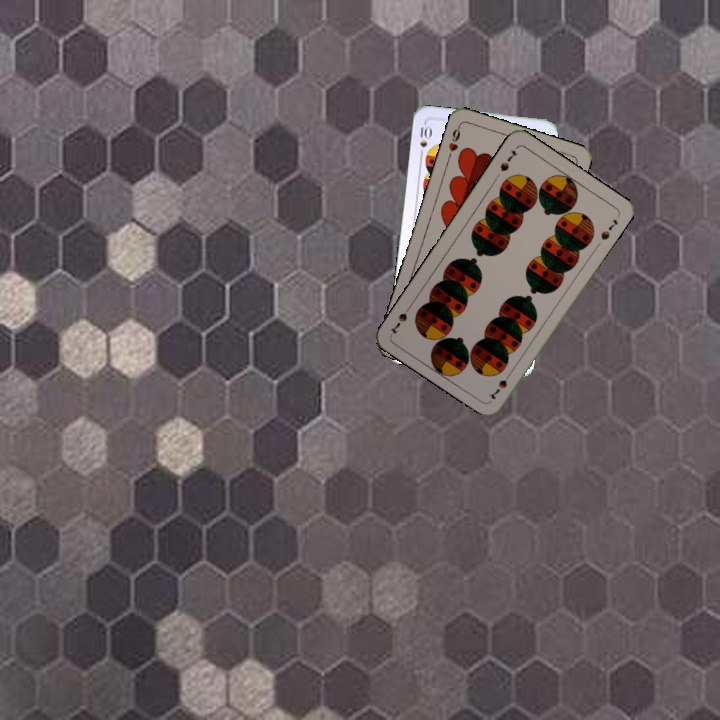H9: (444, 122, 463, 161)
S10: (416, 122, 433, 160)
S7: (485, 367, 515, 402), (496, 146, 520, 174)
